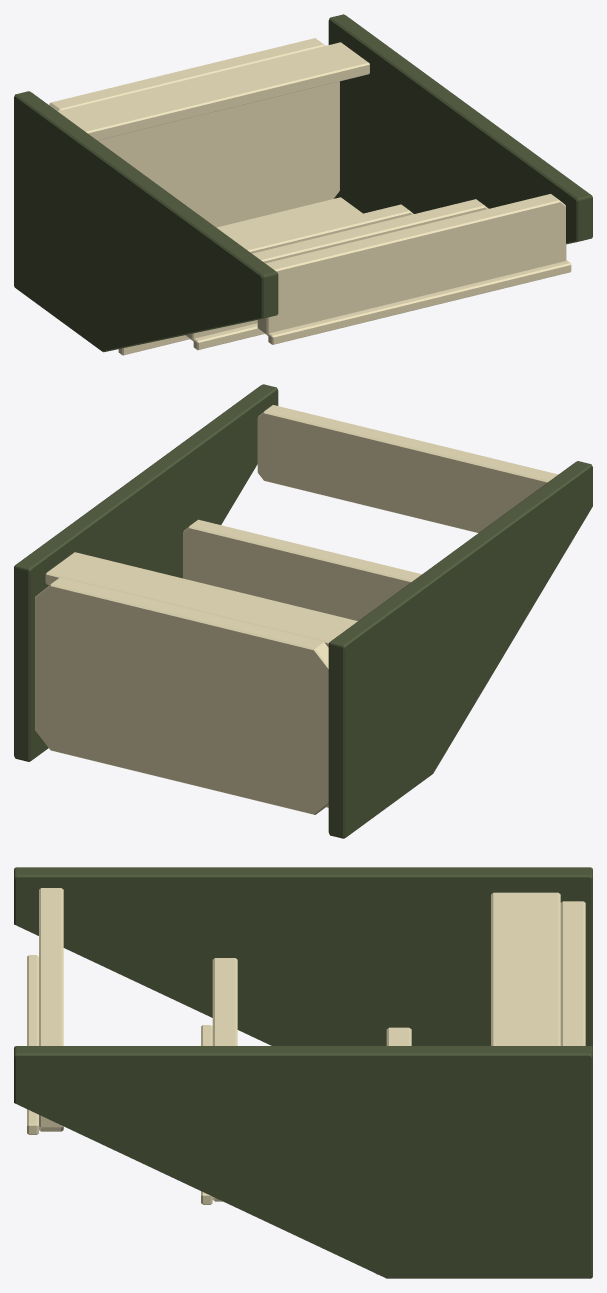
Rendered from fixture_14_stationery_stand.glb.
The picture shows the model from 3 angles, top to bottom: view 1: azimuth 30°, elevation 25°; view 2: azimuth 150°, elevation 25°; view 3: azimuth 270°, elevation 25°; orthographic projection. The views are drawn at different scales.
Parts seen in each view (by area): view 1: fixture_14_stationery_stand; view 2: fixture_14_stationery_stand; view 3: fixture_14_stationery_stand.
Boxes of the visible parts, x1=… form: fixture_14_stationery_stand: x1=14, y1=14, x2=592, y2=355; fixture_14_stationery_stand: x1=14, y1=384, x2=592, y2=838; fixture_14_stationery_stand: x1=14, y1=867, x2=592, y2=1278.
Size of what is drawn, in the model's own units: 0.895 by 0.51 by 1.16.
